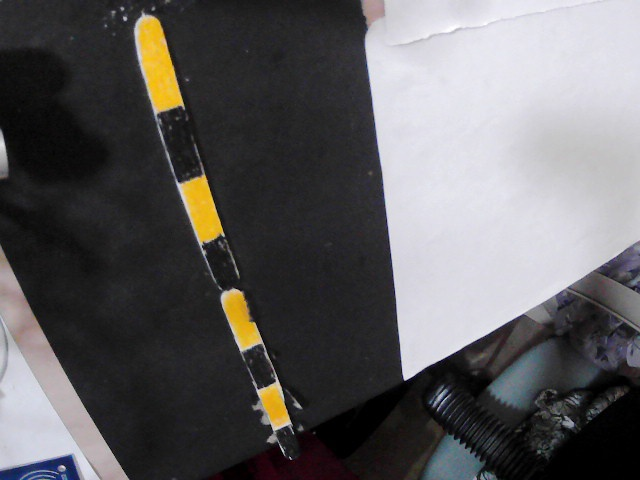black_strip: (154, 107, 200, 180), (195, 231, 244, 291), (240, 342, 278, 387), (276, 423, 302, 473)
mixed_lane: (131, 13, 293, 455)
uno_breadboard: (3, 447, 86, 480)
yellow_strip: (135, 15, 182, 110), (178, 171, 224, 243), (218, 288, 261, 351), (254, 380, 291, 428)
